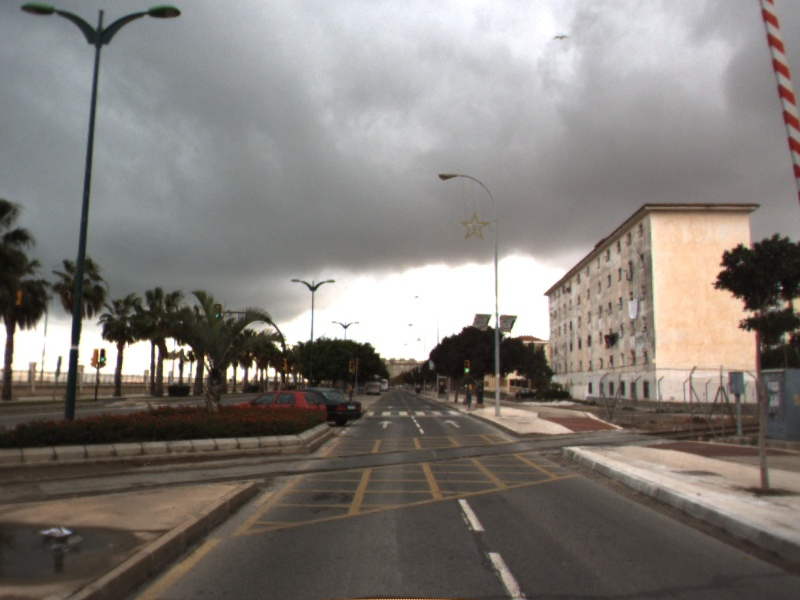STRAIGHT: (441, 418, 463, 429), (377, 418, 395, 430)
